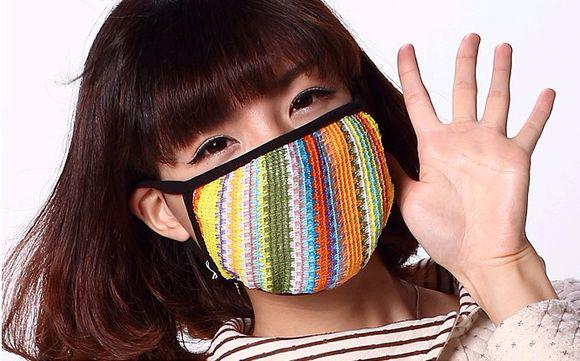OK: (173, 64, 389, 280)
